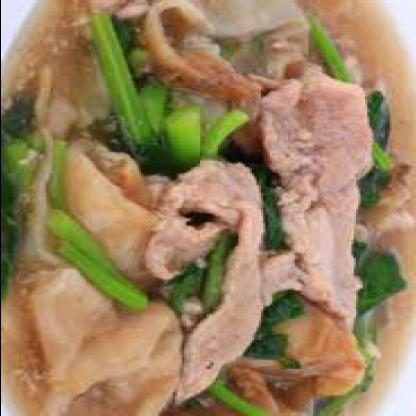Laadna: (1, 1, 416, 415)
